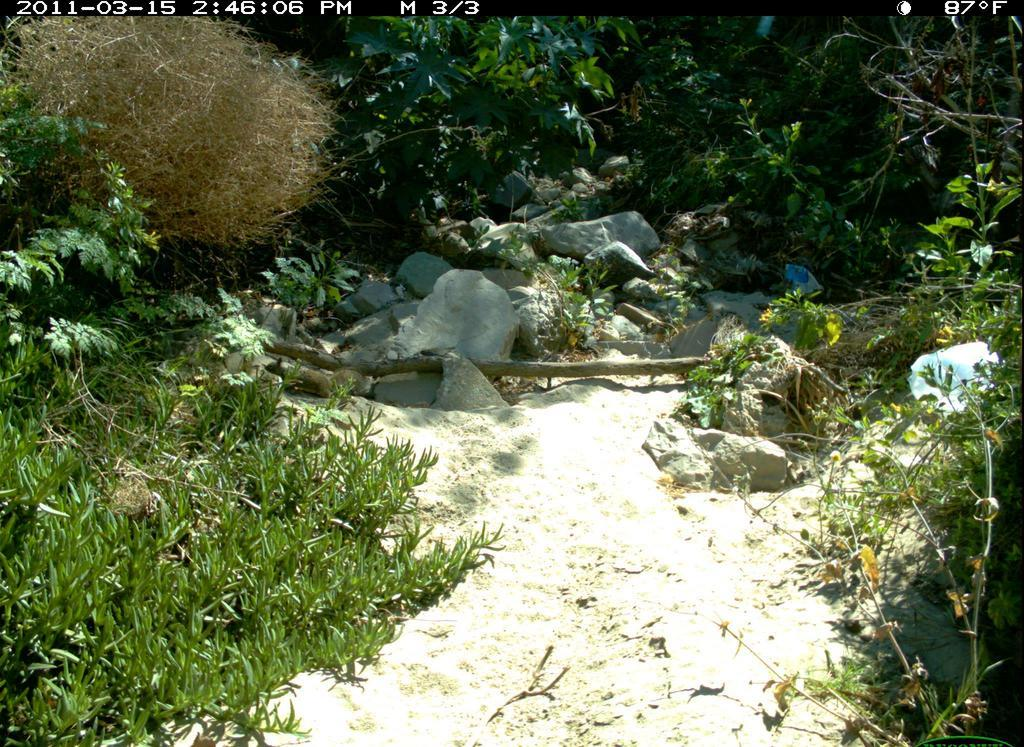squirrel: (262, 358, 399, 402)
